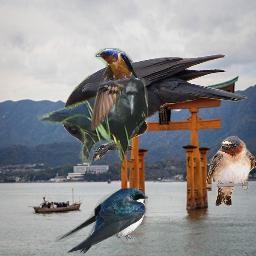Crow: (62, 54, 249, 163), (37, 77, 148, 165)
Swallow: (55, 187, 148, 254), (89, 48, 141, 131), (206, 136, 256, 206)
